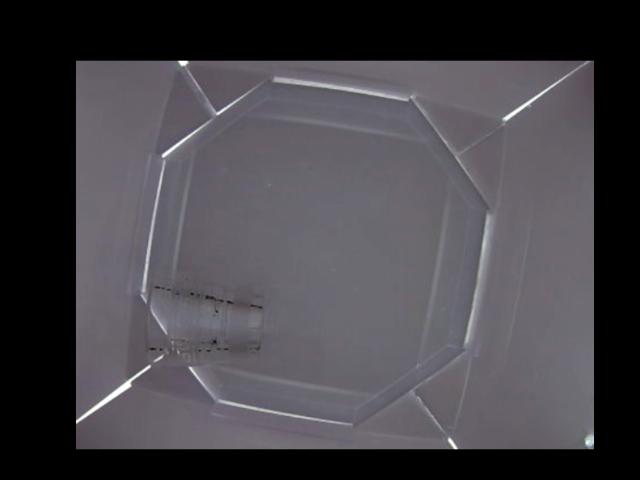Cup: (142, 280, 266, 374)
